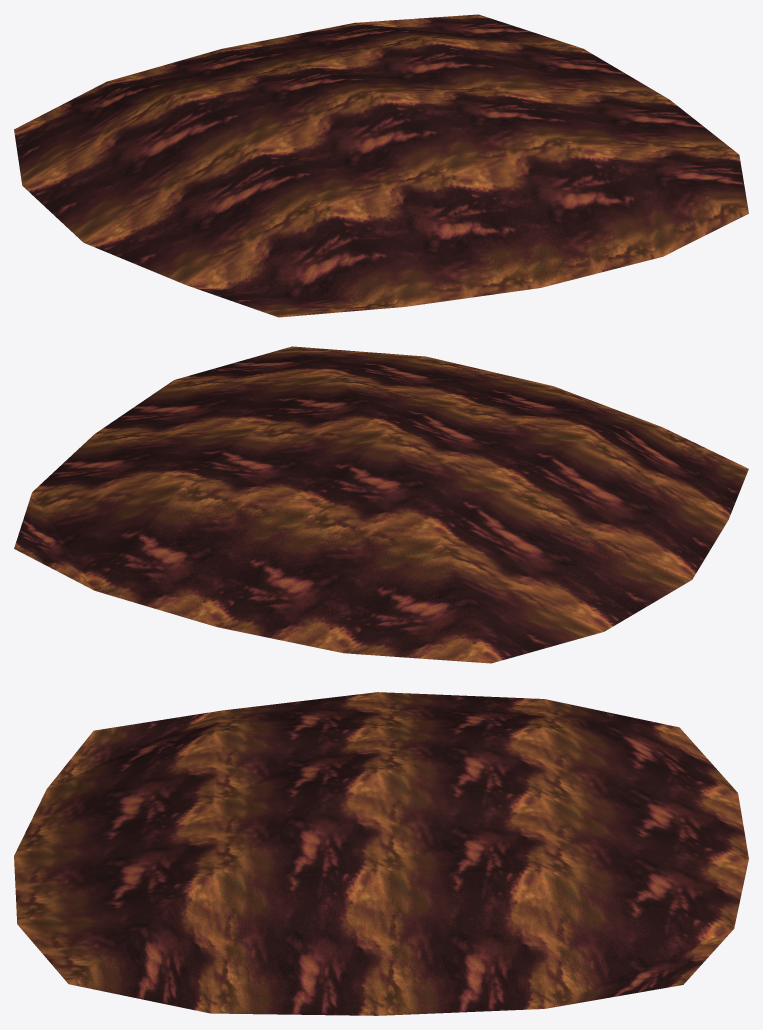
The model's file is sky.obj.
The picture shows the model from 3 angles, top to bottom: view 1: azimuth 30°, elevation 25°; view 2: azimuth 150°, elevation 25°; view 3: azimuth 270°, elevation 25°; orthographic projection. The views are drawn at different scales.
Visible parts, largest first — view 1: sky_ct6; view 2: sky_ct6; view 3: sky_ct6.
Boxes of the visible parts, box(x1,y1,x2,y2) form: sky_ct6: box(14, 14, 748, 317); sky_ct6: box(14, 346, 748, 663); sky_ct6: box(14, 692, 748, 1015).
Bounding box in the file's own units: 8838 × 1089 × 8479.
1 material, 1 textured.
